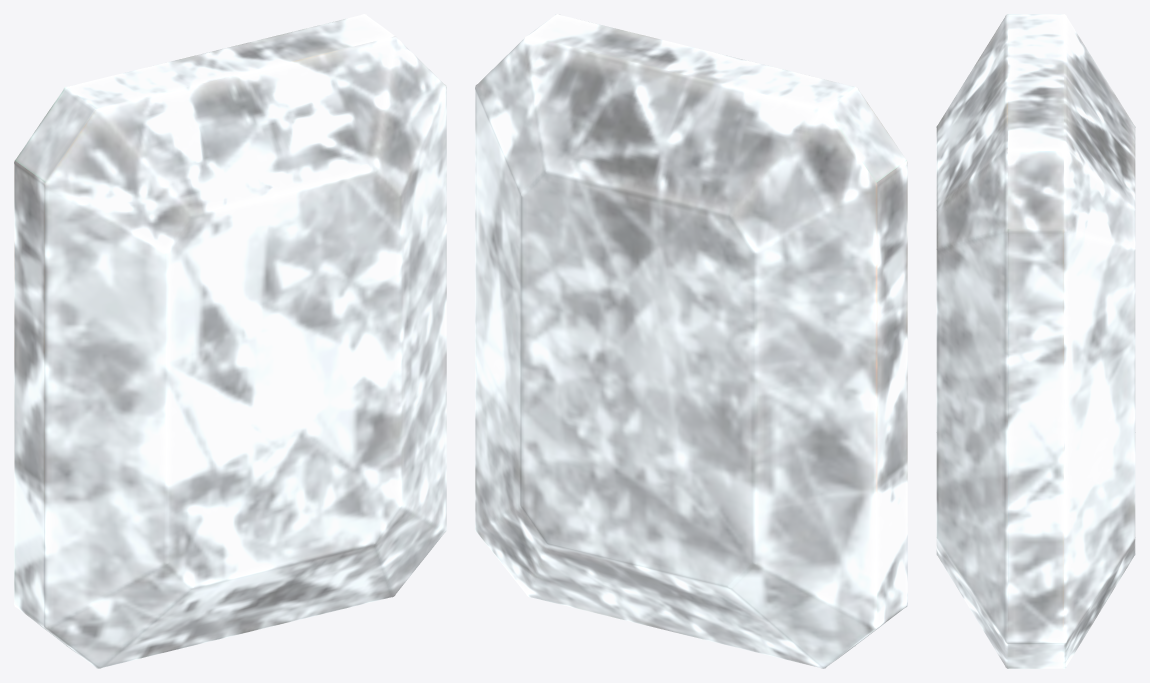
File: Emrald.glb
The picture shows the model from 3 angles, left to right: view 1: azimuth 30°, elevation 25°; view 2: azimuth 150°, elevation 25°; view 3: azimuth 270°, elevation 25°; orthographic projection. The views are drawn at different scales.
Visible parts, largest first — view 1: Plane.006_Diamond_Master_0; view 2: Plane.006_Diamond_Master_0; view 3: Plane.006_Diamond_Master_0.
Boxes of the visible parts, x1,y1,x2,y2 form: Plane.006_Diamond_Master_0: [14, 14, 446, 668]; Plane.006_Diamond_Master_0: [475, 14, 907, 668]; Plane.006_Diamond_Master_0: [936, 14, 1135, 668].
Bounding box in the file's own units: 0.8575 × 1.14 × 0.3957.
Materials: 1 (1 with a texture image).
